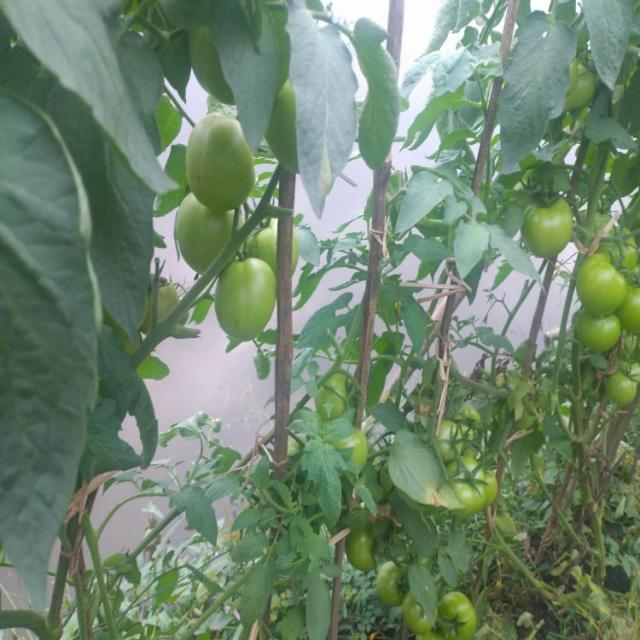tomato: (188, 115, 262, 214), (165, 193, 238, 277), (217, 258, 276, 343), (269, 83, 310, 180), (515, 196, 574, 256), (579, 246, 621, 317), (250, 222, 298, 277), (197, 32, 231, 105), (579, 307, 617, 357), (444, 467, 487, 510), (317, 368, 356, 415), (347, 521, 383, 571), (428, 417, 472, 457), (335, 430, 373, 476), (404, 588, 441, 633), (566, 55, 594, 113), (379, 556, 413, 601), (610, 216, 636, 273), (475, 456, 505, 501), (445, 593, 473, 640), (613, 364, 640, 410), (458, 404, 492, 436), (625, 284, 640, 342)
